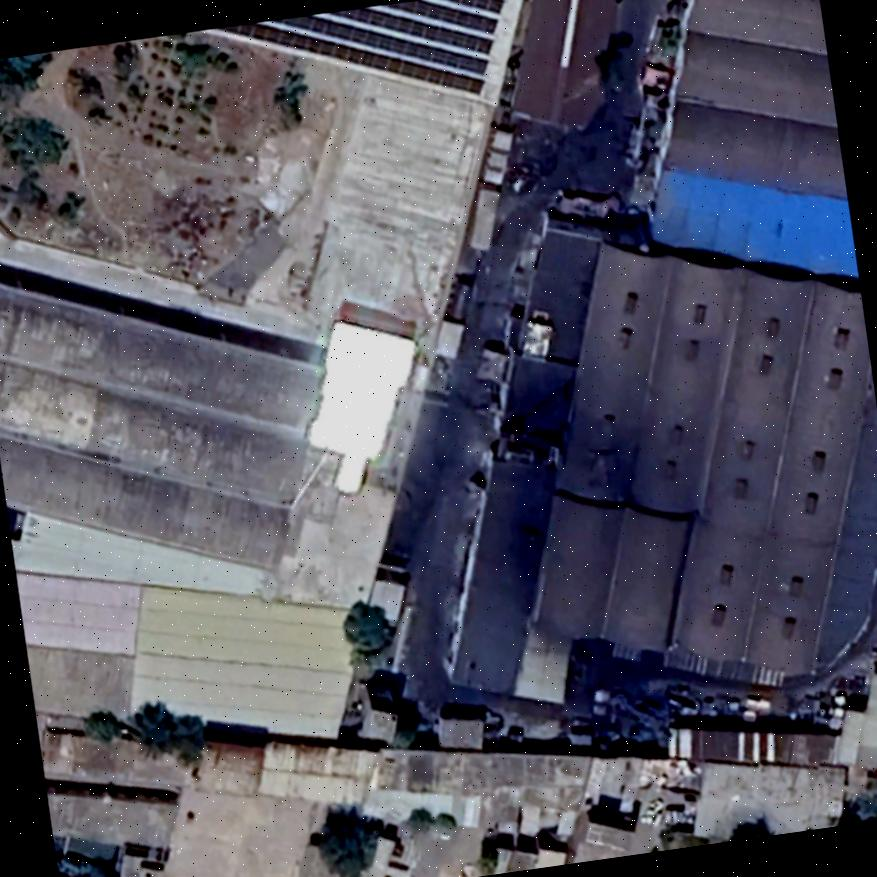Solarpanel: (207, 0, 511, 97)
